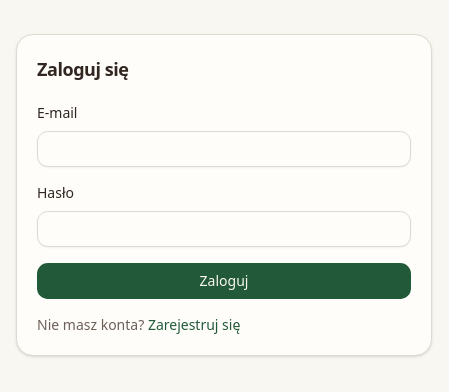
Scenario: logowanie i rejestracja › pokazuje błąd logowania
Type "jan@example.com" into the field with test id "login-email". click: (224, 149)
box: [37, 131, 411, 167]
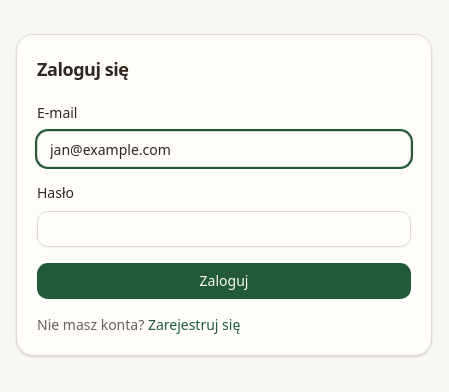
Type "zle" into the password field with test id "login-password". click: (224, 229)
box: [37, 211, 411, 247]
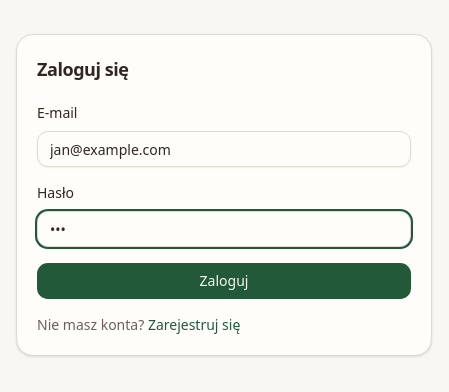
Click the button with test id "login-submit". click: (224, 281)
box: [37, 263, 411, 299]
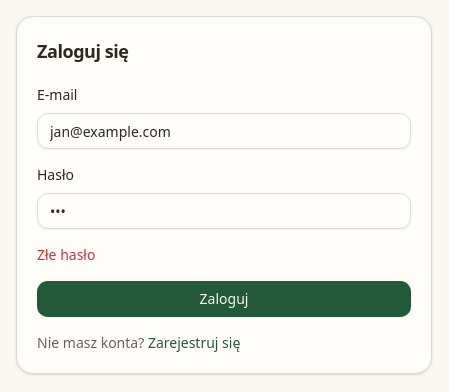
Check: the text with test id "login-error" reads "Złe hasło", box [37, 245, 96, 264]
